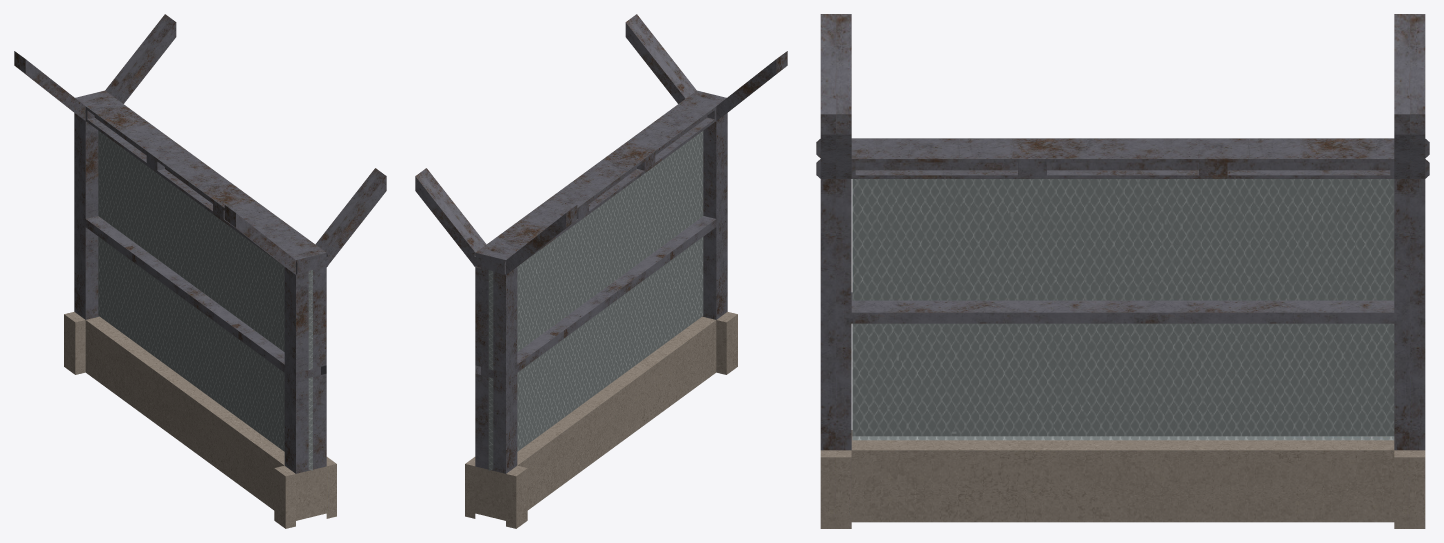
File: gril wall.fbx
The picture shows the model from 3 angles, left to right: view 1: azimuth 30°, elevation 25°; view 2: azimuth 150°, elevation 25°; view 3: azimuth 270°, elevation 25°; orthographic projection. The views are drawn at different scales.
Parts seen in each view (by area): view 1: gril_wl; view 2: gril_wl; view 3: gril_wl.
Boxes of the visible parts, bbox=[...] form: gril_wl: bbox=[14, 14, 386, 528]; gril_wl: bbox=[415, 14, 787, 528]; gril_wl: bbox=[816, 14, 1429, 528].
Bounding box in the file's own units: 124 × 258 × 320.
